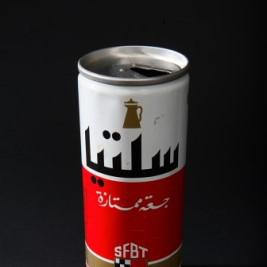beer: (74, 45, 191, 267)
